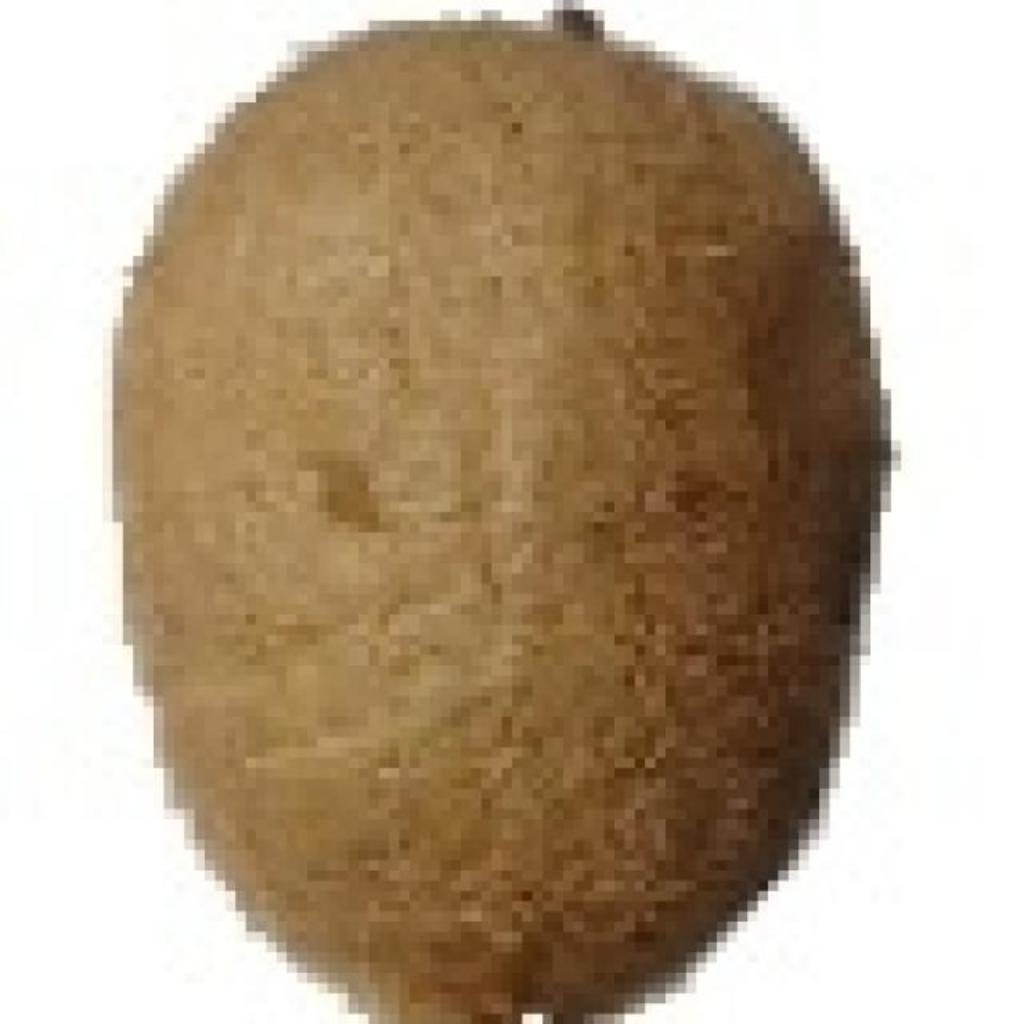kiwi: (113, 10, 870, 1004)
